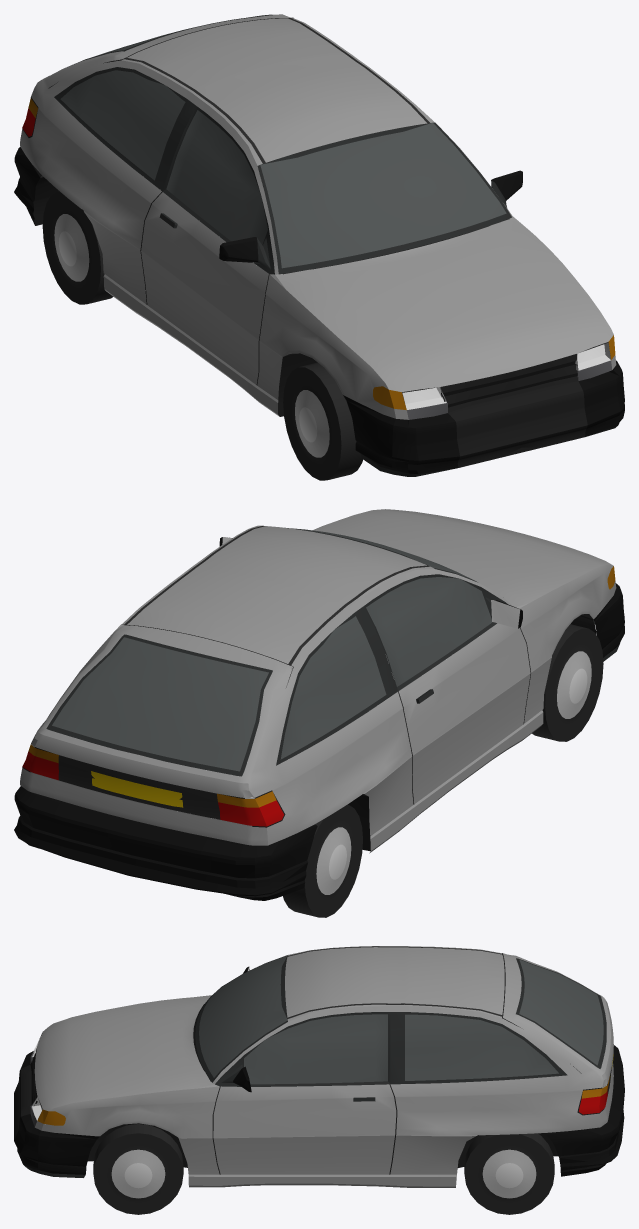
File: TrafficCar2.FBX
3 renders of one model, top to bottom at view 1: azimuth 30°, elevation 25°; view 2: azimuth 150°, elevation 25°; view 3: azimuth 270°, elevation 25°, orthographic. The views are drawn at different scales.
Parts seen in each view (by area): view 1: PaintableBody, NotPaintableBody, Wheel_FR, Wheel_RR; view 2: PaintableBody, NotPaintableBody, Wheel_FR, Wheel_RR; view 3: PaintableBody, NotPaintableBody, Wheel_FL, Wheel_RL.
Boxes of the visible parts, bbox=[...] form: PaintableBody: bbox=[20, 14, 616, 419]; NotPaintableBody: bbox=[14, 14, 624, 476]; Wheel_FR: bbox=[283, 362, 362, 480]; Wheel_RR: bbox=[42, 191, 113, 304]; PaintableBody: bbox=[20, 509, 616, 853]; NotPaintableBody: bbox=[14, 525, 624, 900]; Wheel_FR: bbox=[532, 624, 603, 741]; Wheel_RR: bbox=[283, 804, 362, 917]; PaintableBody: bbox=[34, 946, 613, 1187]; NotPaintableBody: bbox=[14, 946, 624, 1177]; Wheel_FL: bbox=[93, 1124, 183, 1214]; Wheel_RL: bbox=[464, 1133, 554, 1214].
Bounding box in the file's own units: 68.17 × 54.34 × 154.
6 materials, 5 textured.
